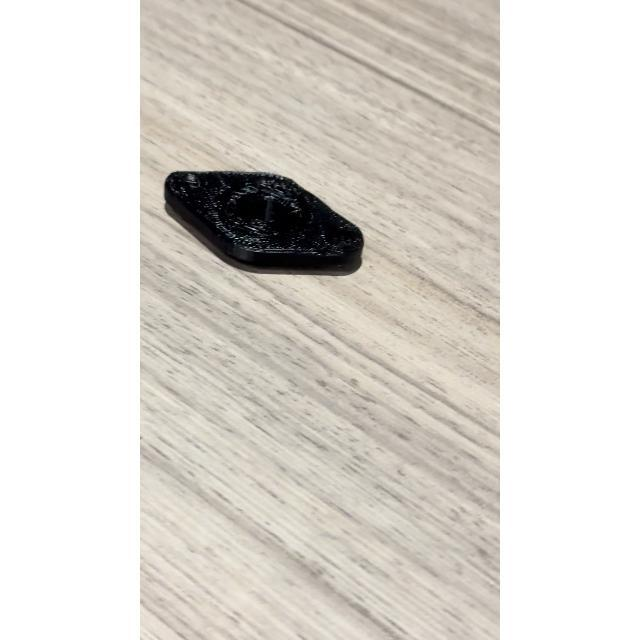Pieza2: (158, 157, 370, 290)
